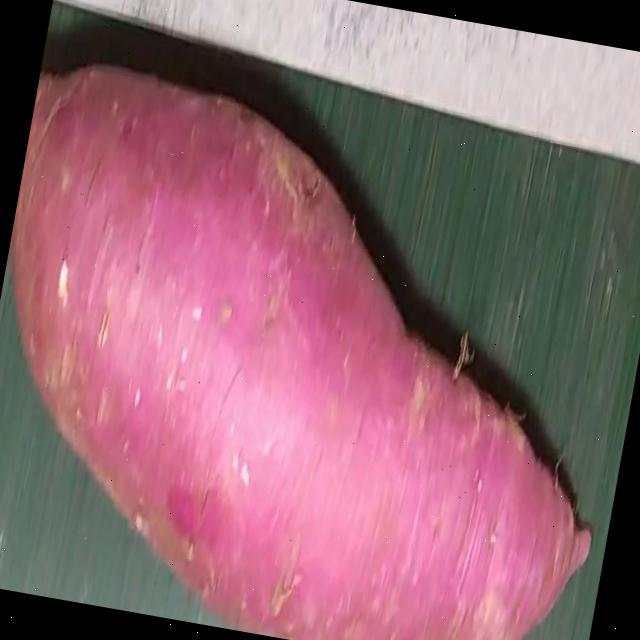Sweet Potato: (7, 63, 592, 640)
